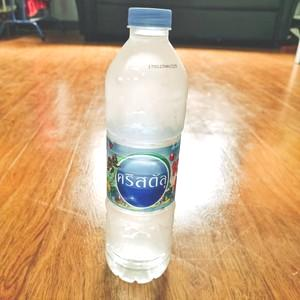bottle: (98, 3, 192, 290)
